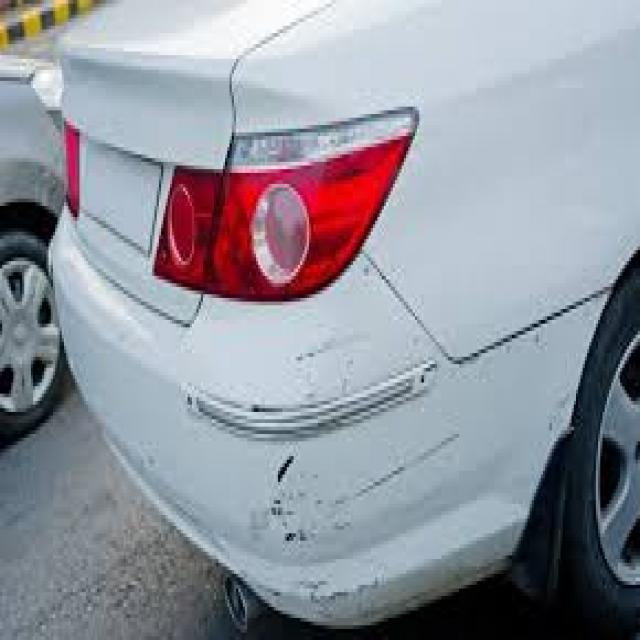minor: (233, 413, 447, 628)
